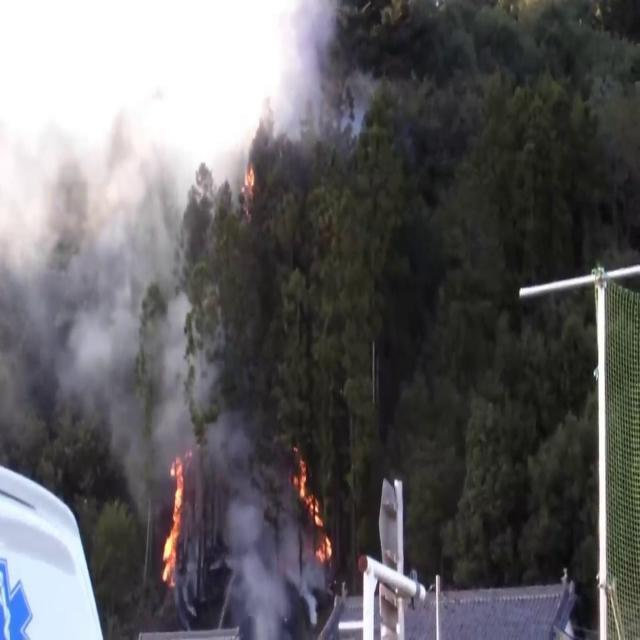Fire: (157, 451, 192, 589), (294, 458, 332, 572)
Smoke: (0, 0, 318, 484), (0, 38, 168, 486), (196, 385, 316, 635)
